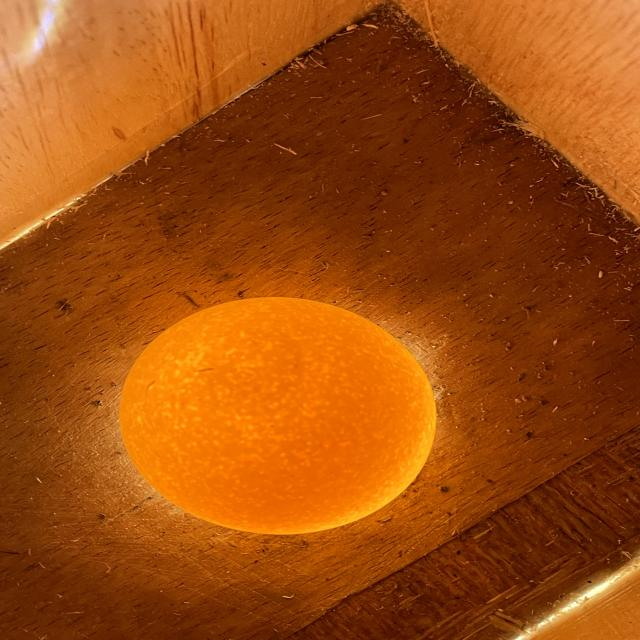infertile: (120, 297, 437, 534)
